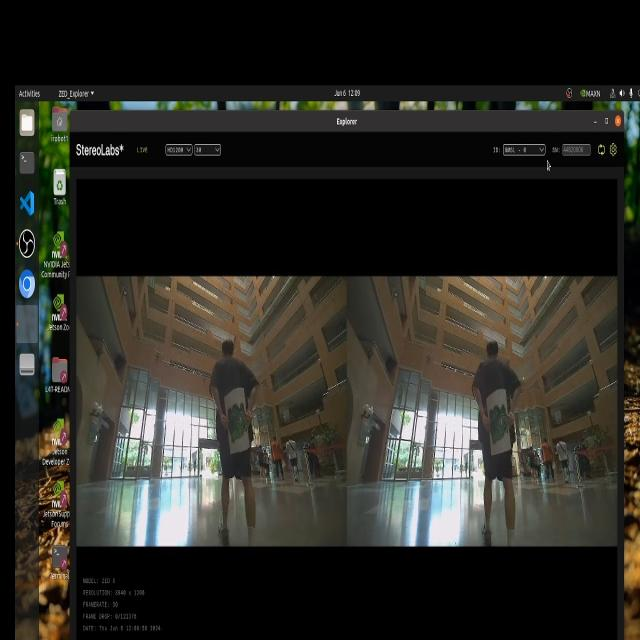green: (488, 395, 504, 457), (234, 391, 247, 447)
